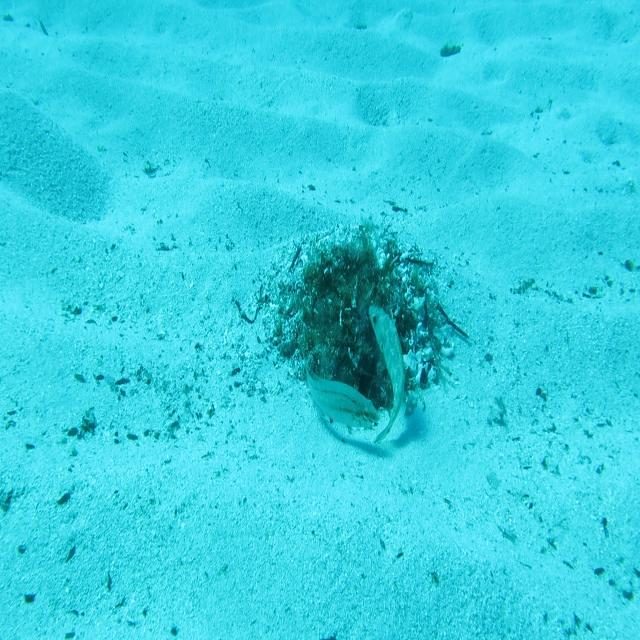DAN_CIRC: (368, 304, 407, 444)
core_nest: (333, 256, 378, 309)
female: (303, 347, 381, 433)
nest: (249, 207, 460, 443)
vegetation: (437, 41, 462, 60)
